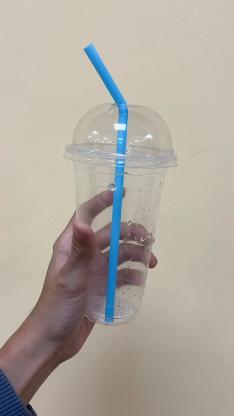Plastic Cup: (68, 103, 182, 327)
